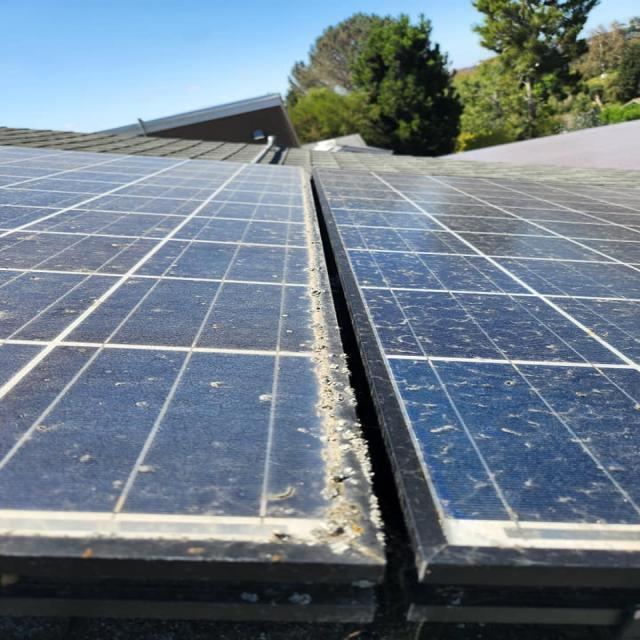Dusty: (0, 139, 328, 528), (318, 173, 640, 542)
